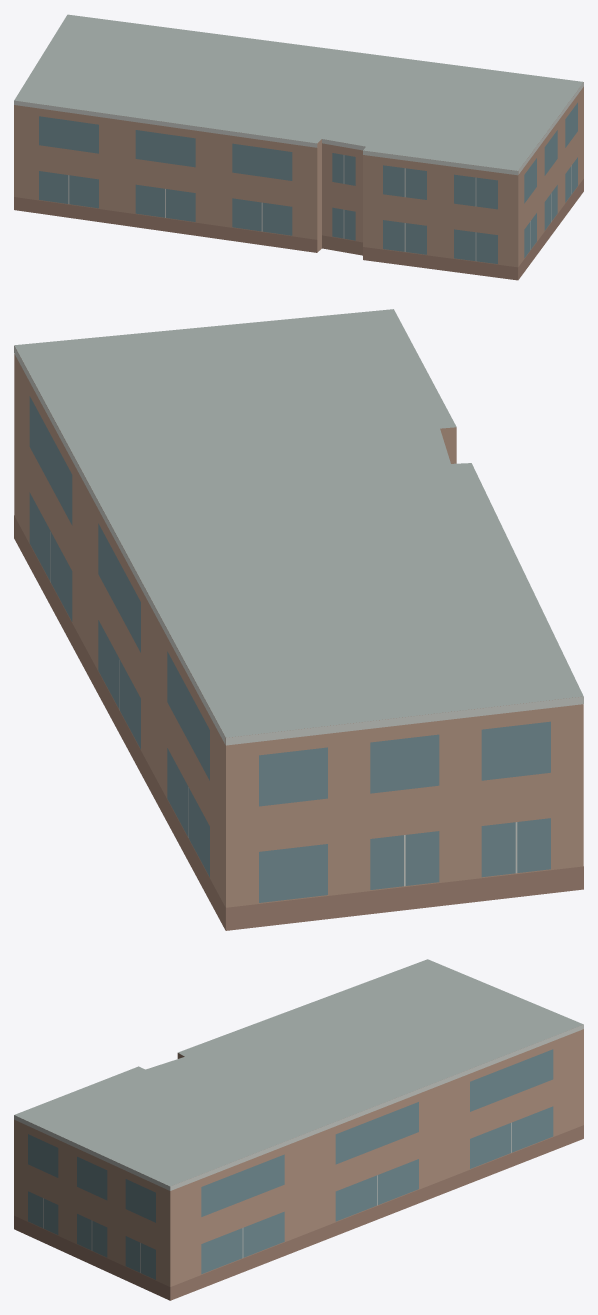
Rendered from survey-upis-32824555.glb.
3 renders of one model, top to bottom at view 1: azimuth 30°, elevation 25°; view 2: azimuth 150°, elevation 25°; view 3: azimuth 270°, elevation 25°, orthographic. The views are drawn at different scales.
Parts seen in each view (by area): view 1: survey-upis-32824555.tmp; view 2: survey-upis-32824555.tmp; view 3: survey-upis-32824555.tmp.
Boxes of the visible parts, <box> form: survey-upis-32824555.tmp: <box>14,14,583,280</box>; survey-upis-32824555.tmp: <box>14,309,583,930</box>; survey-upis-32824555.tmp: <box>14,959,583,1300</box>.
Bounding box in the file's own units: 26.04 × 6.1 × 27.58.
